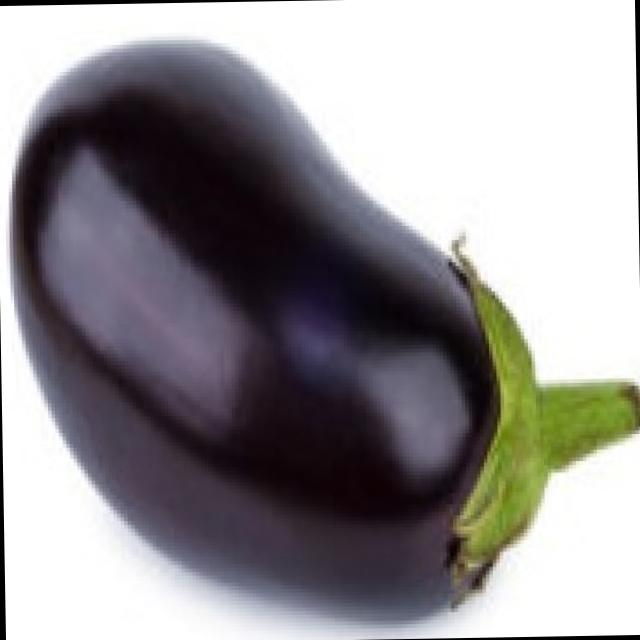eggplant: (0, 26, 510, 638)
